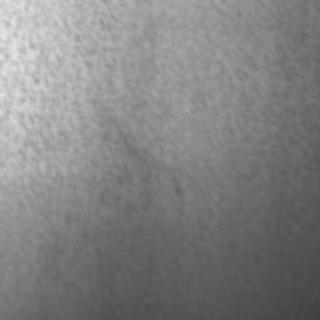pitted_surface: (0, 0, 318, 312)
